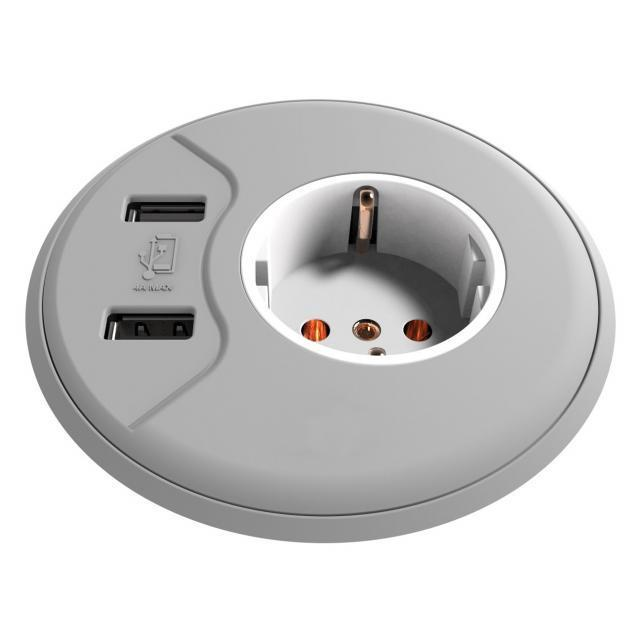typeb: (21, 83, 631, 578)
